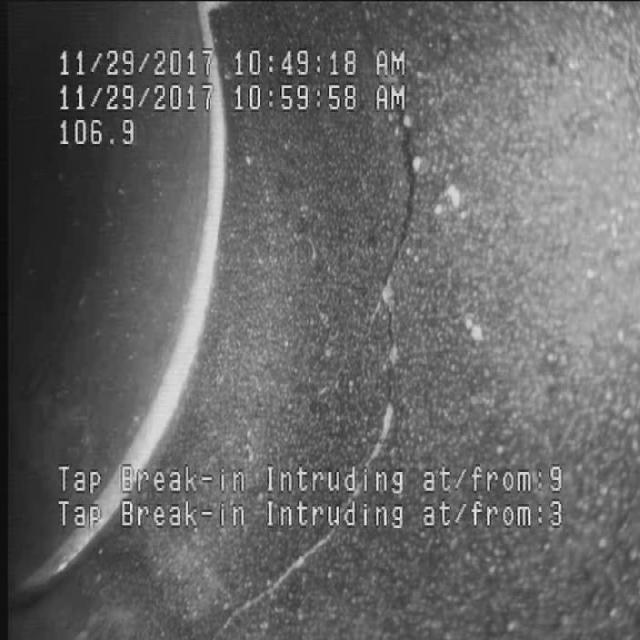Crack: (356, 140, 452, 442)
